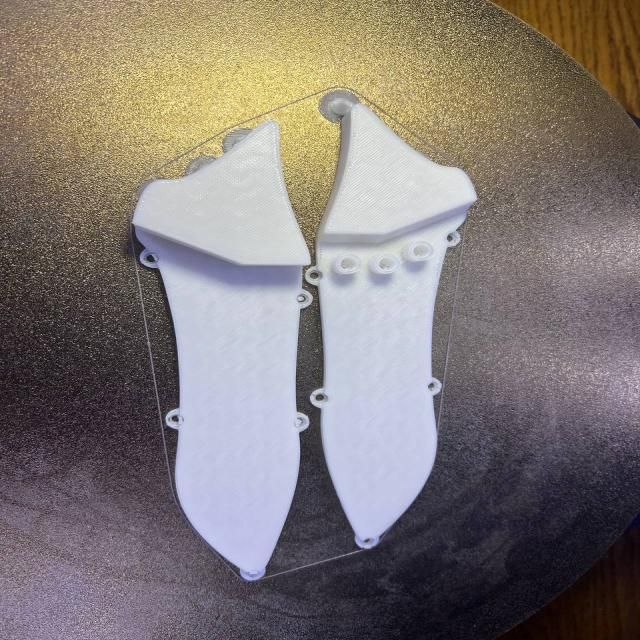Without deffect: (110, 68, 478, 591)
